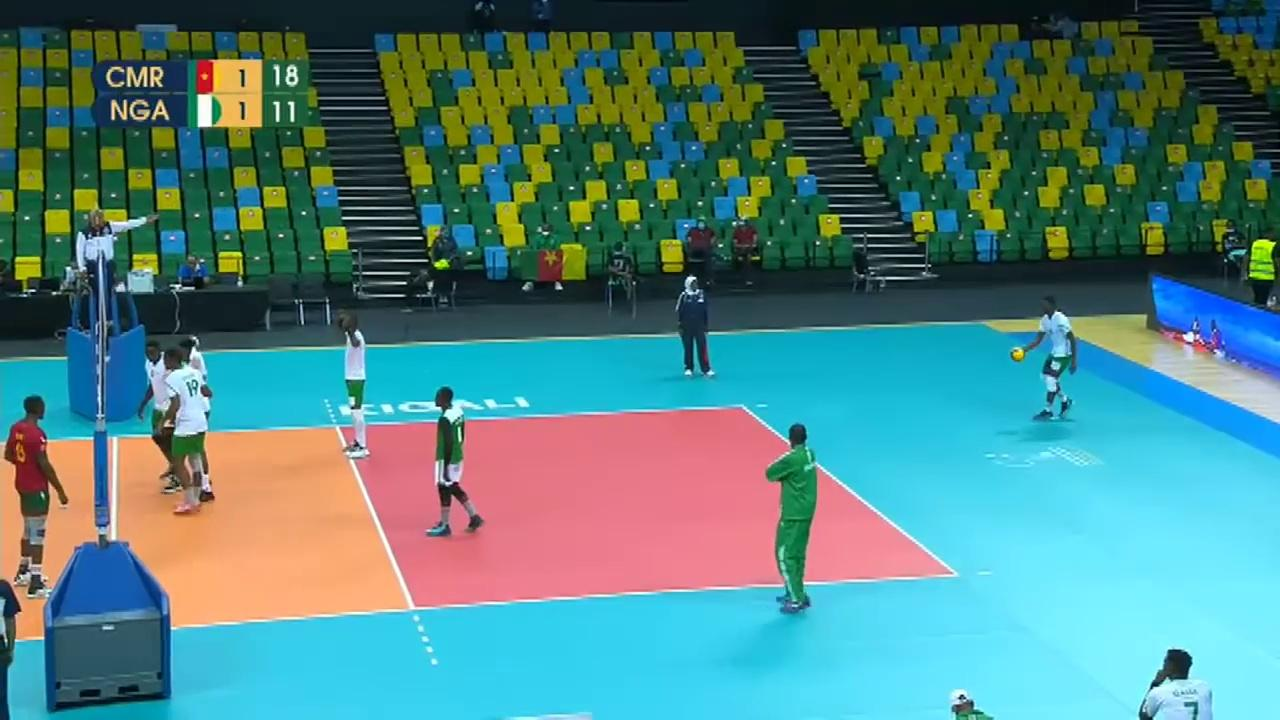player: (2, 398, 68, 585), (159, 342, 217, 508), (429, 386, 483, 534), (1016, 299, 1078, 420), (139, 339, 184, 491), (170, 329, 214, 484), (338, 314, 372, 455)
refree: (75, 204, 144, 326), (674, 275, 713, 375)
